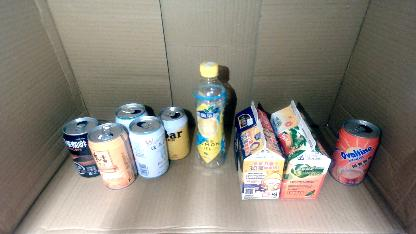Can: (328, 118, 380, 186), (87, 122, 138, 190), (128, 116, 170, 178), (62, 116, 100, 178), (158, 106, 190, 160), (115, 104, 148, 134)
Plastic Bottle: (193, 62, 227, 170)
